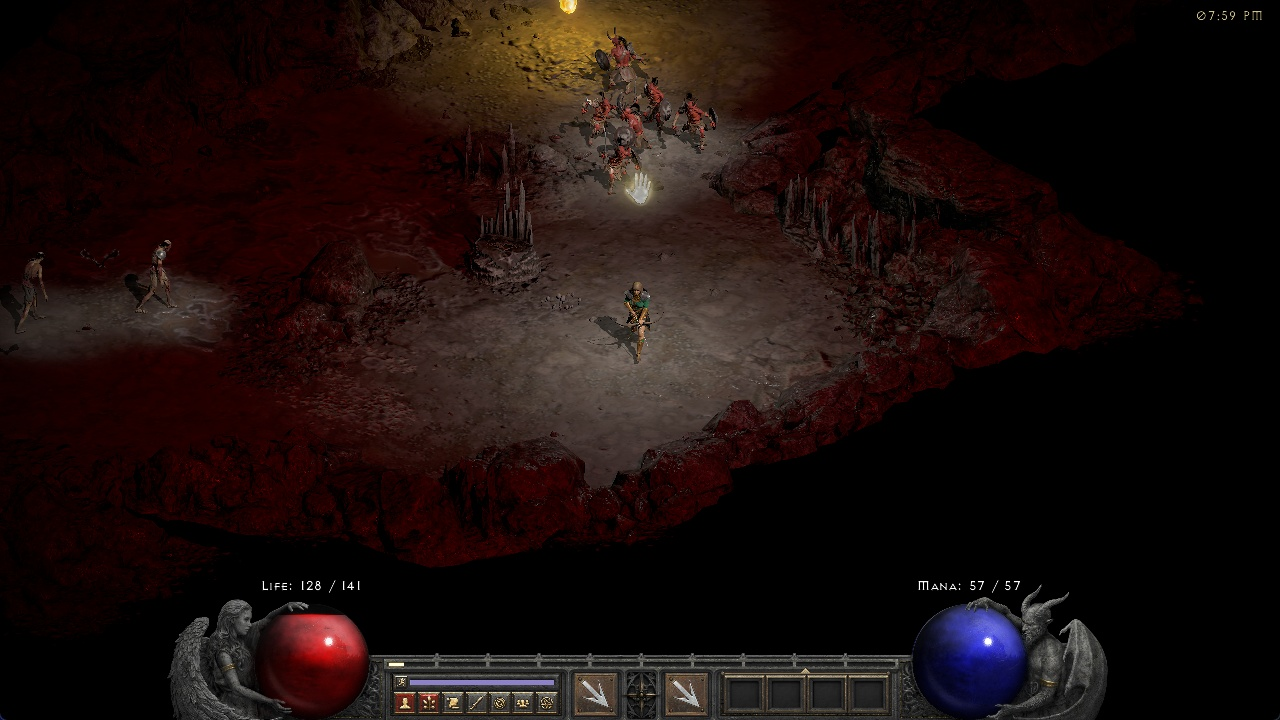fallen: (673, 95, 718, 149), (597, 33, 638, 87), (579, 95, 615, 141), (639, 83, 669, 128), (604, 148, 638, 184), (619, 102, 641, 152)
